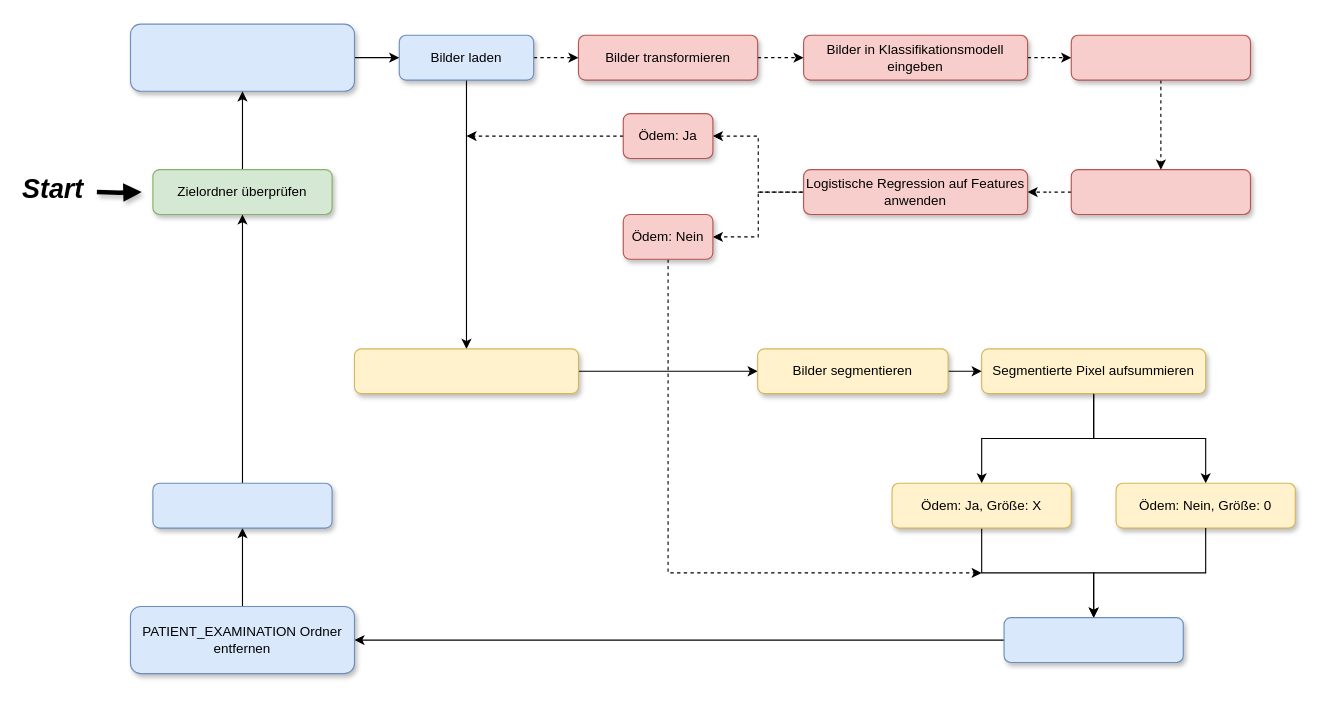
Some shapes in this 1322 by 701 pixel diagram are drawn without their labels. The centre of each missing label's shape, as x and y in pixels:
"Bilder in Segmentierungsmodell eingeben" goes at point (467, 372).
"Ergebnis schreiben" goes at point (1094, 641).
"Features extrahieren" goes at point (1161, 59).
"Features skalieren" goes at point (1161, 193).
"n Minuten warten" goes at point (243, 507).
"Neuer PATIENT_EXAMINATION Ordner vorhanden" goes at point (243, 58).
